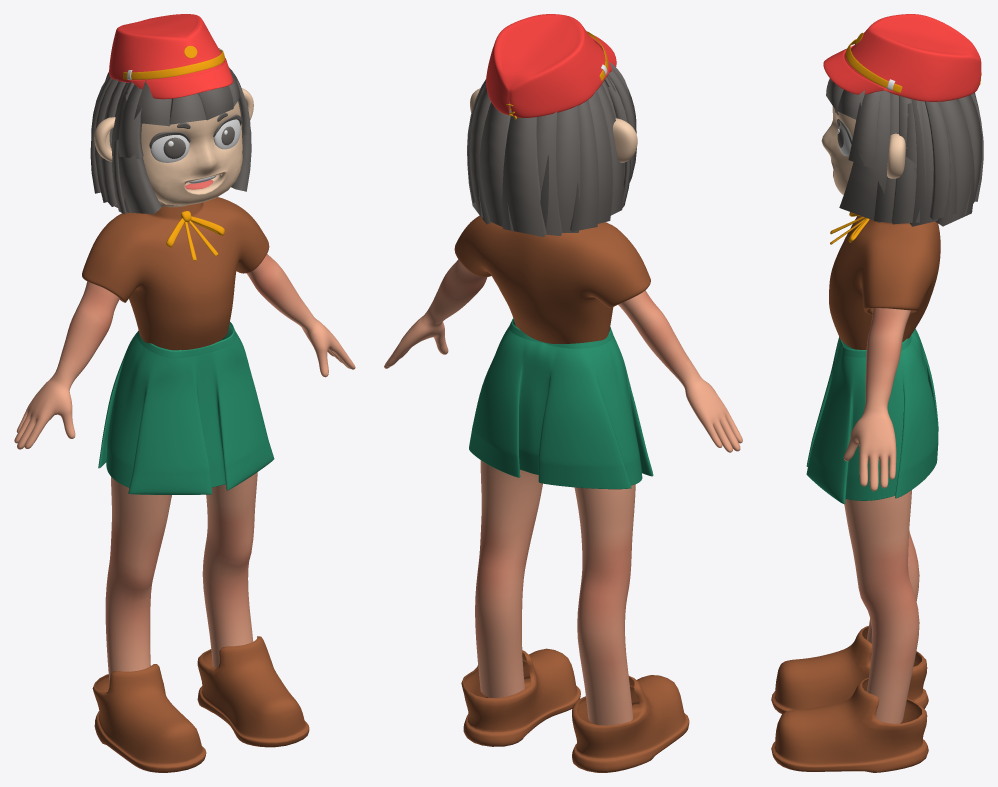
Rendered from server.fbx.
3 views of the same model, side by side, from view 1: azimuth 30°, elevation 25°; view 2: azimuth 150°, elevation 25°; view 3: azimuth 270°, elevation 25° (orthographic). The views are drawn at different scales.
Parts seen in each view (by area): view 1: 裙子, 衣服, 腿, 鞋子, 贝塞尔曲线.008, 手, 帽沿, 人頭, 眼珠, 蝴蝶結, 帽子配件, 右耳; view 2: 腿, 裙子, 贝塞尔曲线.008, 衣服, 鞋子, 帽沿, 手, 右耳; view 3: 贝塞尔曲线.008, 鞋子, 裙子, 腿, 衣服, 帽沿, 手, 人頭, 左耳, 帽子配件, 蝴蝶結.
Part boxes in pixels (bbox=[...]): 裙子: bbox=[98, 322, 274, 494]; 衣服: bbox=[82, 197, 269, 350]; 腿: bbox=[105, 472, 257, 683]; 鞋子: bbox=[92, 636, 309, 772]; 贝塞尔曲线.008: bbox=[90, 67, 251, 214]; 手: bbox=[14, 254, 355, 449]; 帽沿: bbox=[109, 14, 233, 99]; 人頭: bbox=[141, 101, 242, 207]; 眼珠: bbox=[150, 119, 240, 162]; 蝴蝶結: bbox=[166, 211, 224, 260]; 帽子配件: bbox=[123, 49, 225, 79]; 右耳: bbox=[94, 117, 115, 161]; 腿: bbox=[475, 460, 635, 725]; 裙子: bbox=[469, 318, 653, 489]; 贝塞尔曲线.008: bbox=[467, 62, 636, 236]; 衣服: bbox=[454, 215, 650, 343]; 鞋子: bbox=[461, 648, 689, 772]; 帽沿: bbox=[486, 14, 616, 117]; 手: bbox=[384, 259, 742, 452]; 右耳: bbox=[613, 118, 637, 162]; 贝塞尔曲线.008: bbox=[826, 78, 983, 226]; 鞋子: bbox=[771, 626, 928, 772]; 裙子: bbox=[806, 328, 938, 504]; 腿: bbox=[844, 490, 919, 723]; 衣服: bbox=[829, 216, 940, 349]; 帽沿: bbox=[823, 14, 981, 101]; 手: bbox=[843, 308, 910, 491]; 人頭: bbox=[821, 106, 855, 194]; 左耳: bbox=[887, 133, 905, 178]; 帽子配件: bbox=[846, 39, 902, 92]; 蝴蝶結: bbox=[830, 212, 869, 244].
Size of the model in its own units: 347 by 683 by 187.
